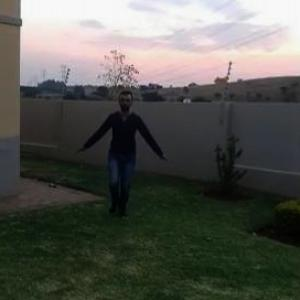land: (77, 88, 170, 220)
